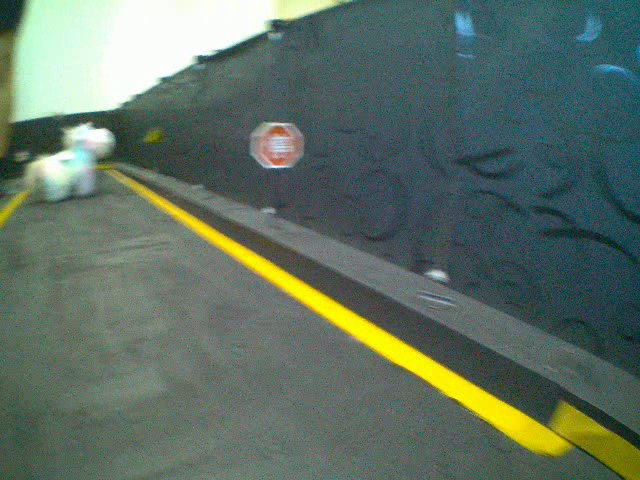unicorn: (20, 119, 123, 204)
